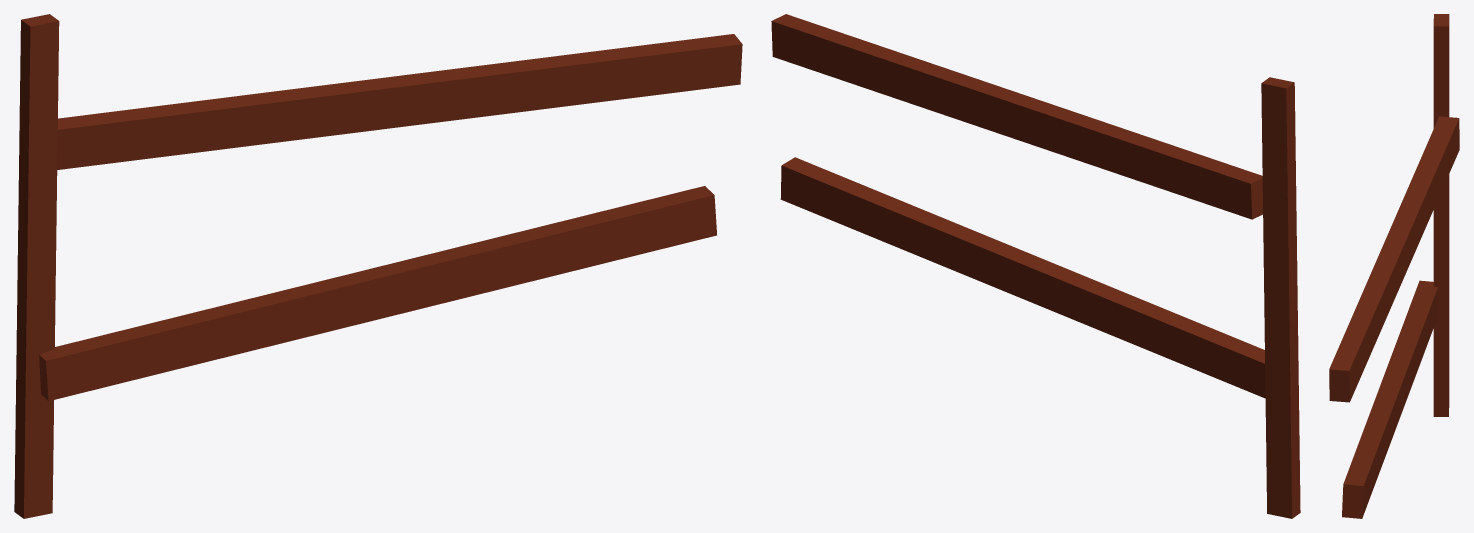
The model's file is cerca.fbx.
The picture shows the model from 3 angles, left to right: view 1: azimuth 30°, elevation 25°; view 2: azimuth 150°, elevation 25°; view 3: azimuth 270°, elevation 25°; orthographic projection. The views are drawn at different scales.
Visible parts, largest first — view 1: Cube.001; view 2: Cube.001; view 3: Cube.001.
Part boxes in pixels (x1,y1,x2,y2): Cube.001: (14, 14, 742, 518); Cube.001: (771, 14, 1300, 518); Cube.001: (1329, 14, 1459, 518).
Size of the model in its own units: 435 by 311 by 93.3.
